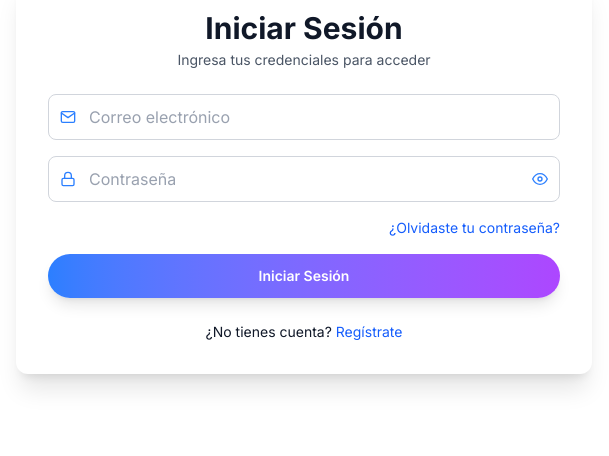
LoginForm › debe mostrar error si los campos están vacíos
Click the button "Iniciar Sesión".
click(304, 276)  # box [48,254,560,298]
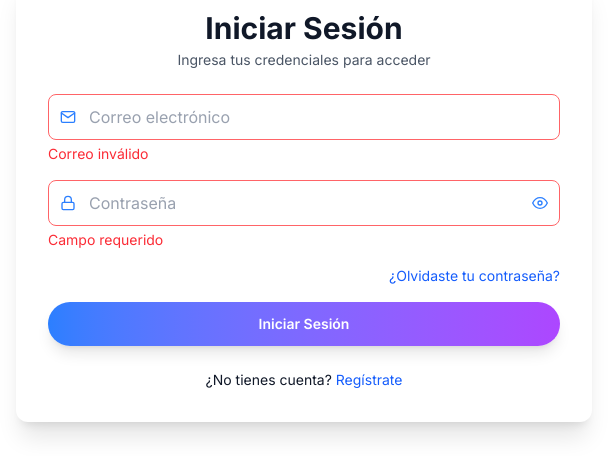
Expected: the text "Correo inválido" is shown, [48,145,148,162]
Expected: the text "Campo requerido" is shown, [48,231,163,248]
